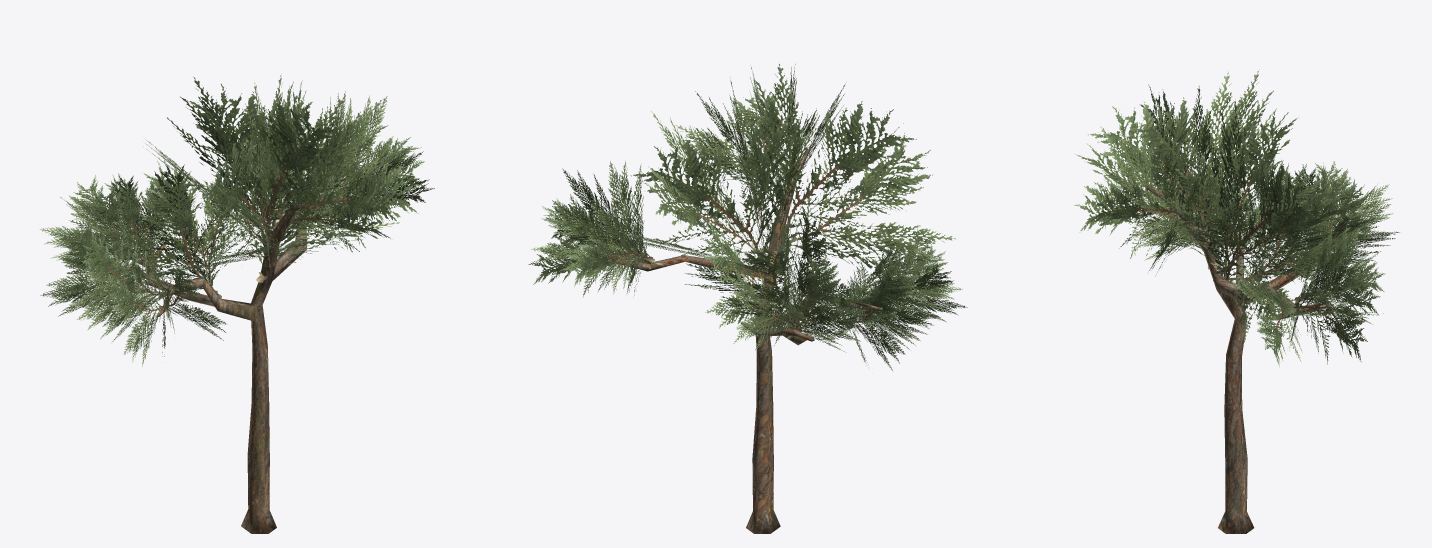
The model's file is tree_new.glb.
3 views of the same model, side by side, from view 1: azimuth 30°, elevation 25°; view 2: azimuth 150°, elevation 25°; view 3: azimuth 270°, elevation 25° (orthographic). The views are drawn at different scales.
Visible parts, largest first — view 1: Cube; view 2: Cube; view 3: Cube.
Boxes of the visible parts, <box> form: Cube: <box>39,75,434,533</box>; Cube: <box>528,64,967,533</box>; Cube: <box>1074,69,1399,533</box>.
Bounding box in the file's own units: 13.6 × 16.34 × 11.3.
45 materials, 45 textured.
